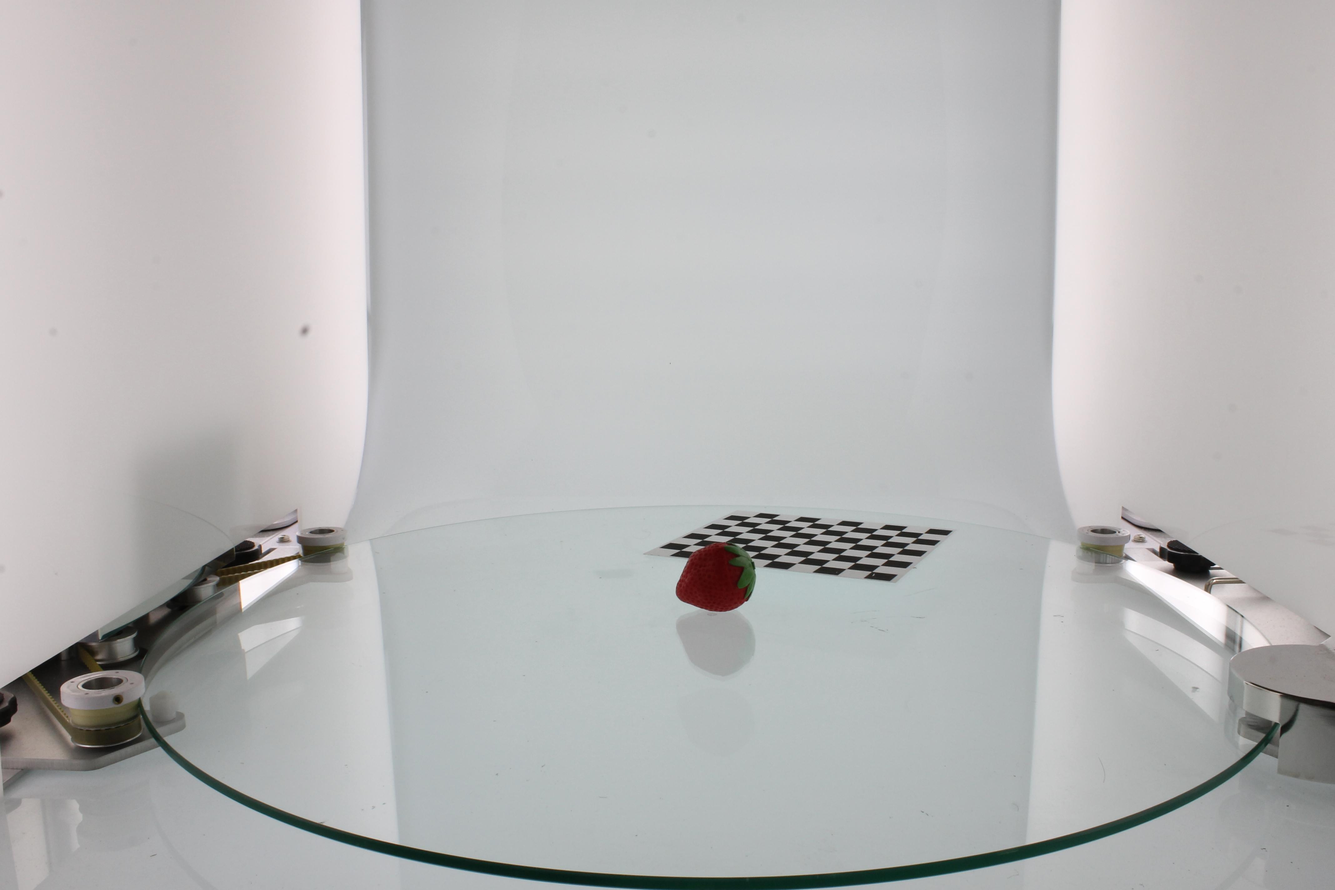strawberry: (673, 541, 755, 612)
